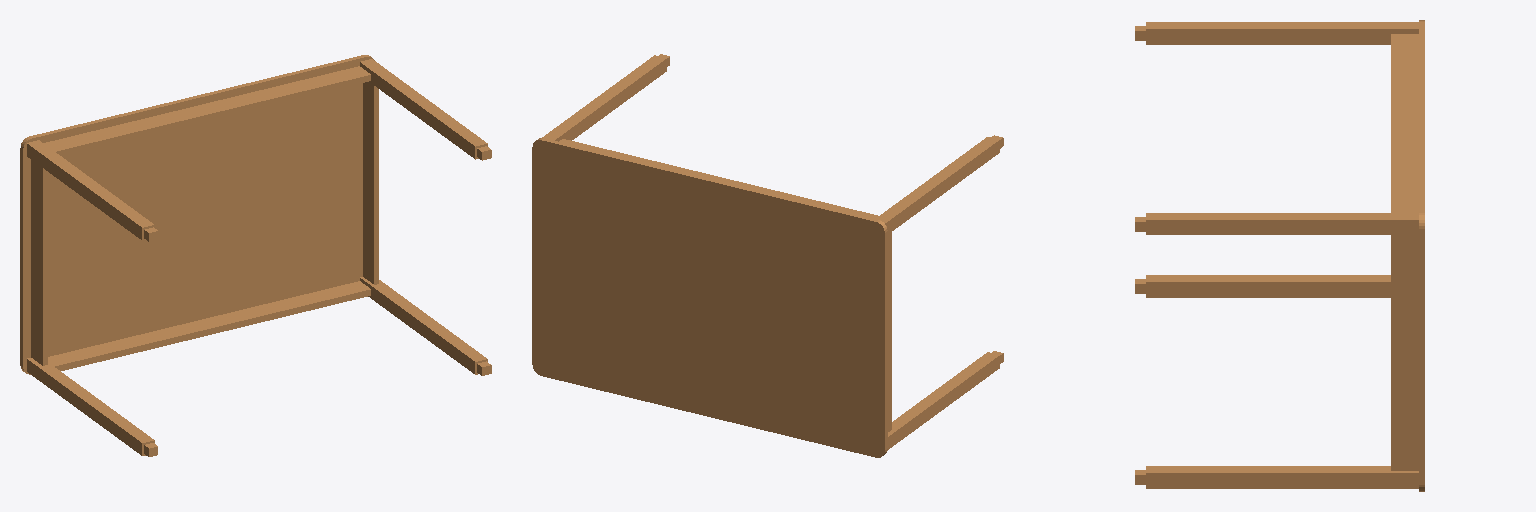
URDF robot description (table):
<?xml version="1.0" encoding="UTF-8"?>
<robot name="table">
  <material name="color">
    <color rgba="0.8 0.6 0.4 1.0"/>
  </material>

  <link name="table_link">
    <visual>
      <origin xyz="0 0 0" rpy="0 0 0"/>
      <geometry>
        <mesh filename="table.obj" scale="1 1 1"/>
      </geometry>
      <material name="color"/>
    </visual>

    <collision>
      <origin xyz="0 0 0" rpy="0 0 0"/>
      <geometry>
        <mesh filename="table.obj" scale="1 1 1"/>
      </geometry>
    </collision>
    <!-- 无 inertial → PhysX 自动当作 static triangle mesh -->
  </link>
</robot>

--- Render facts (derived) ---
Views: 3 orthographic renders of the robot side by side, from view 1: azimuth 30°, elevation 25°; view 2: azimuth 150°, elevation 25°; view 3: azimuth 270°, elevation 25°.
Robot: table — 1 links, 0 joints (none); root link table_link; default pose: all joints at 0.
Links seen in each view (by area): view 1: table_link; view 2: table_link; view 3: table_link.
Boxes of the visible links, <box> form: table_link: <box>20,55,491,456</box>; table_link: <box>532,54,1003,457</box>; table_link: <box>1135,20,1424,491</box>.
Bounding box of the posed robot: 1.2 × 0.7281 × 0.7661 m (x, y, z).
Meshes: 1 distinct files referenced, 1 mesh visuals loaded (1 OBJ).